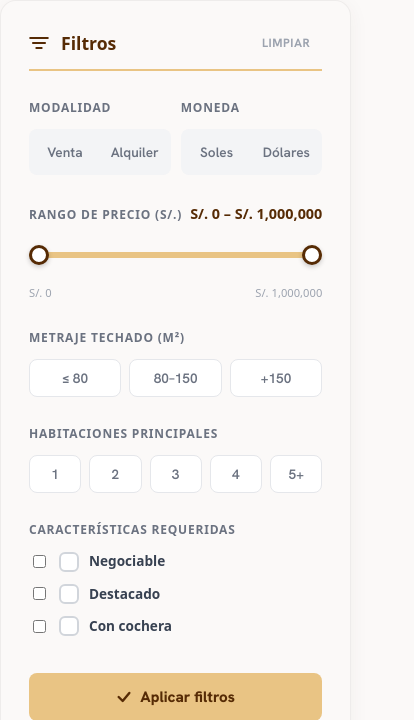
it: FilterSidebar (panel de filtros) › Rango de precio › el valor mostrado del rango se actualiza antes de aplicar
This screenshot has width=414, height=720.
Set the slider named "Precio mínimo" to "250000" at (106, 255), box [29,245,322,265]
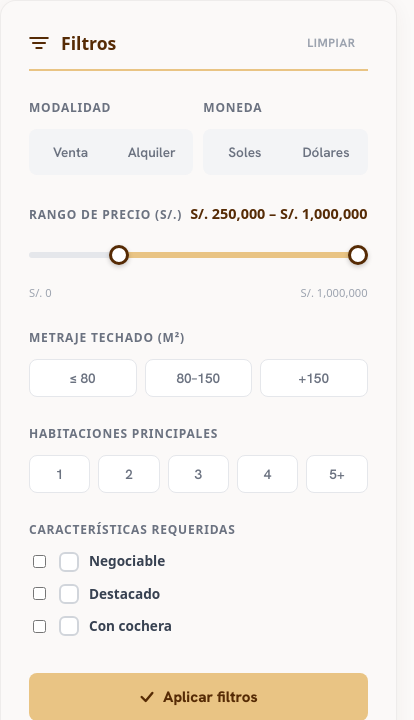
Check: the text "S/. 250,000 – S/. 1,000,000" is shown, box [190,203,368,225]
